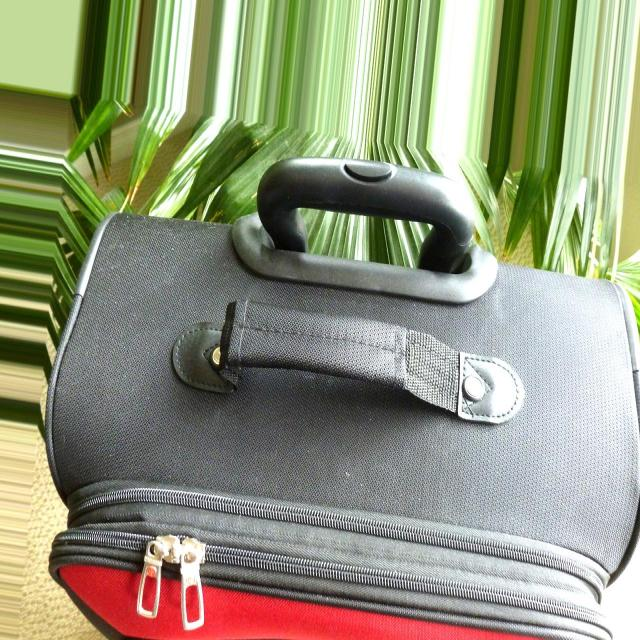Bag: (32, 151, 640, 640)
Handle: (232, 156, 495, 281)
